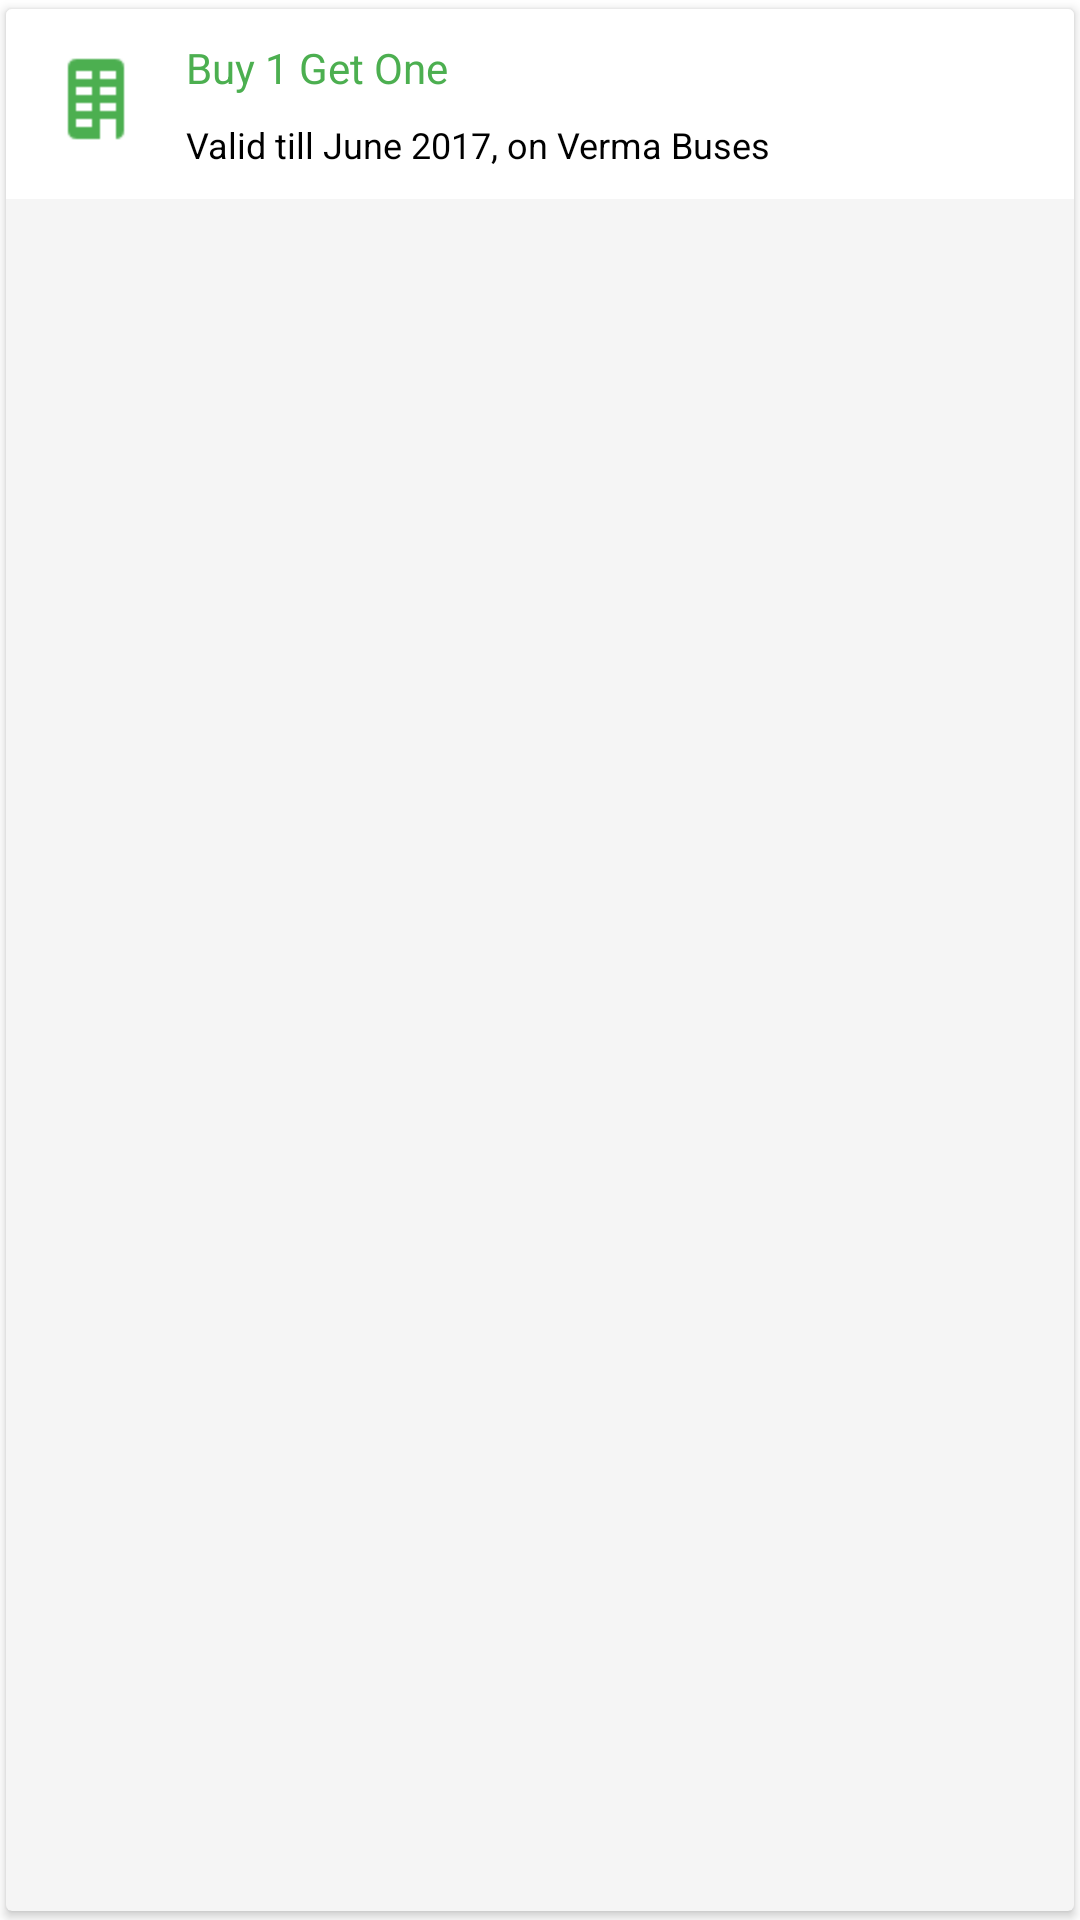

Icon click points for this 1080px×1920px phone screenshot, format [x,y]:
offer hotel: [96,99]
